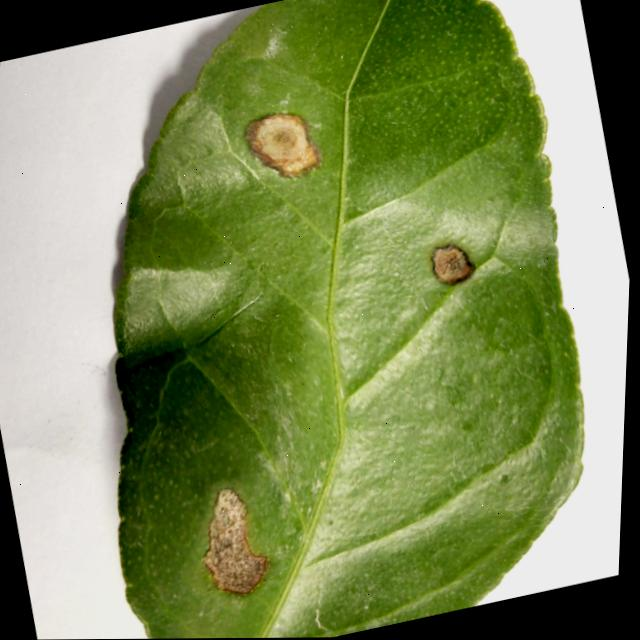antracnose: (115, 0, 582, 639), (204, 487, 265, 592), (245, 112, 320, 176), (432, 243, 473, 282)
